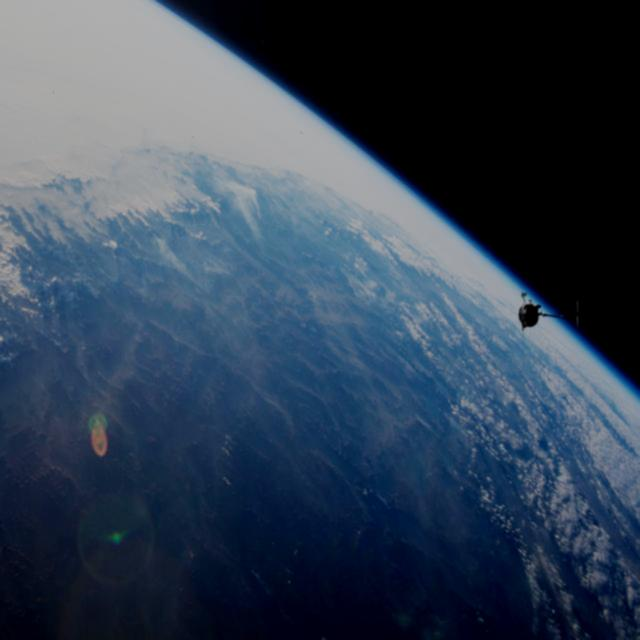satellite: (491, 280, 602, 346)
